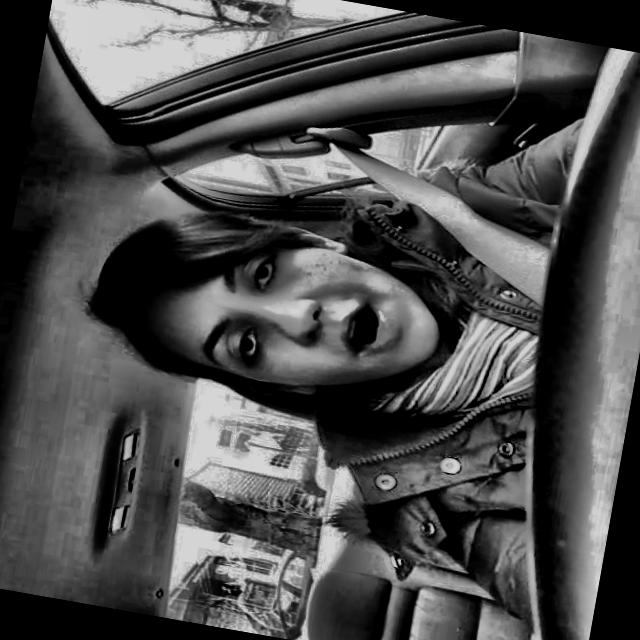open_eyes: (234, 247, 295, 304), (224, 317, 279, 378)
open_mouth: (325, 278, 416, 380)
